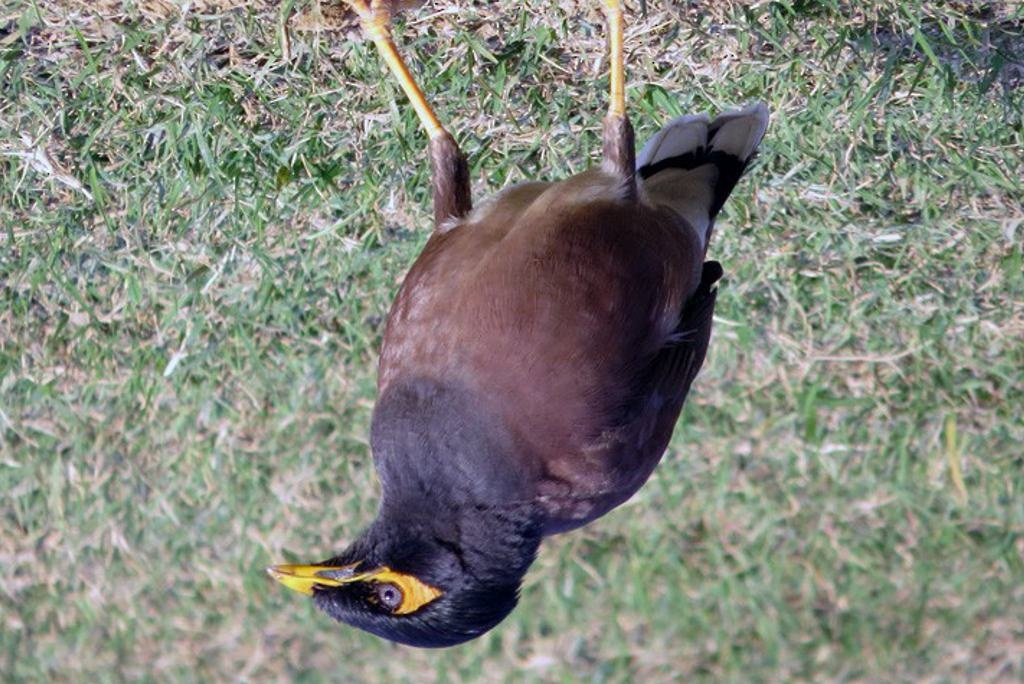myna: (266, 47, 796, 662)
